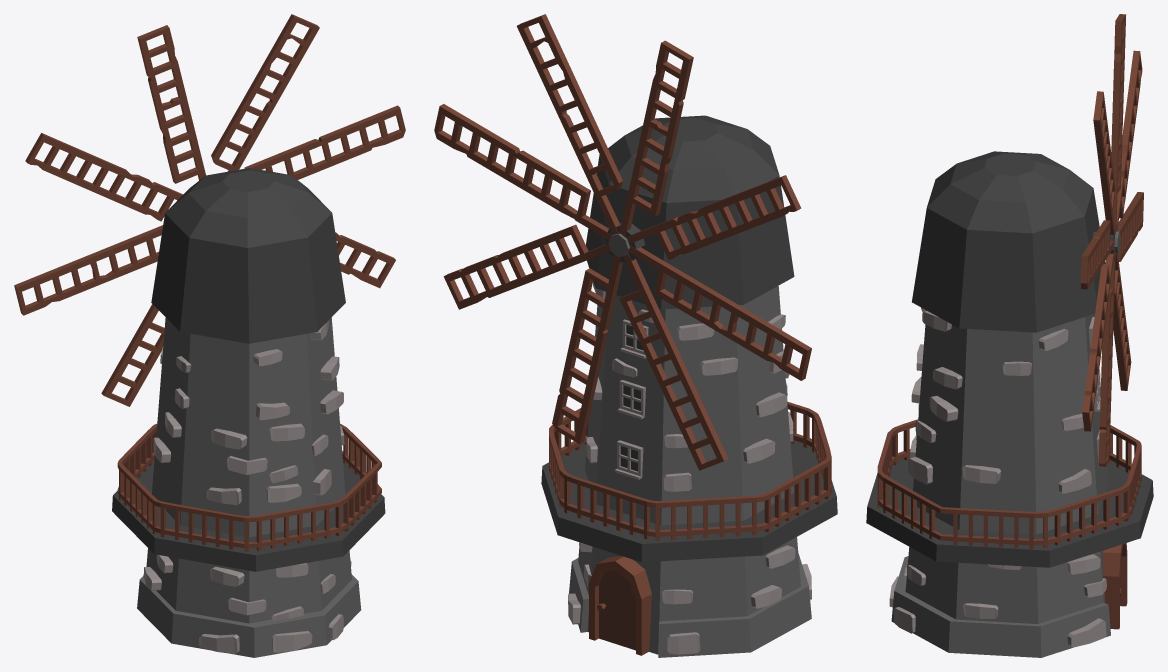
Rendered from TowerWindmill.fbx.
3 views of the same model, side by side, from view 1: azimuth 30°, elevation 25°; view 2: azimuth 150°, elevation 25°; view 3: azimuth 270°, elevation 25° (orthographic). The views are drawn at different scales.
Visible parts, largest first — view 1: TowerWindmill, TowerWindmill_Blades; view 2: TowerWindmill, TowerWindmill_Blades; view 3: TowerWindmill, TowerWindmill_Blades.
Part boxes in pixels (x1,y1,x2,y2): TowerWindmill: [112, 168, 385, 657]; TowerWindmill_Blades: [14, 14, 405, 406]; TowerWindmill: [541, 115, 837, 657]; TowerWindmill_Blades: [434, 14, 811, 470]; TowerWindmill: [866, 151, 1153, 657]; TowerWindmill_Blades: [1080, 14, 1143, 466].
Bounding box in the file's own units: 1754 × 2548 × 1154.
